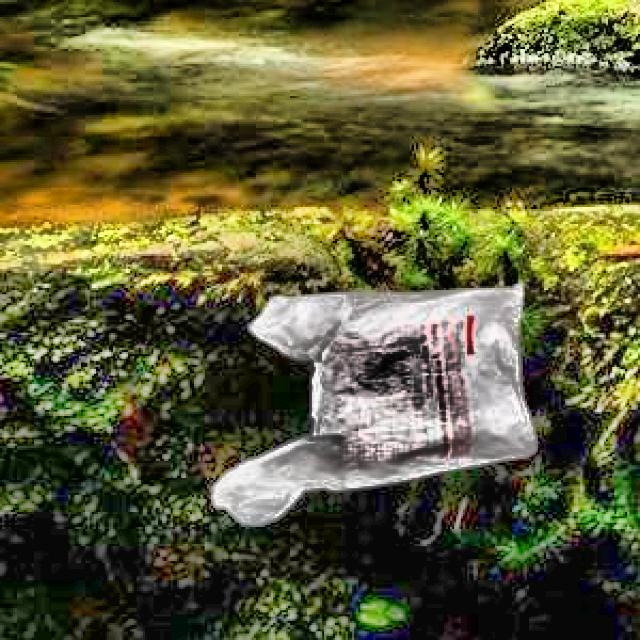Plastic: (198, 279, 556, 534)
